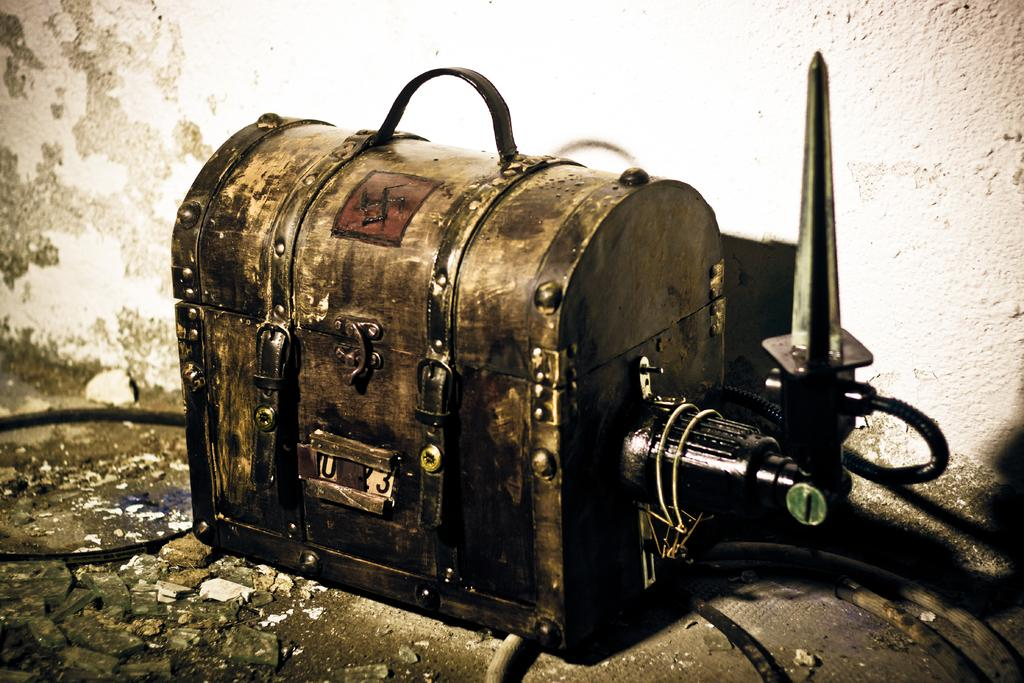Luggage-and-bags: (172, 49, 781, 621)
